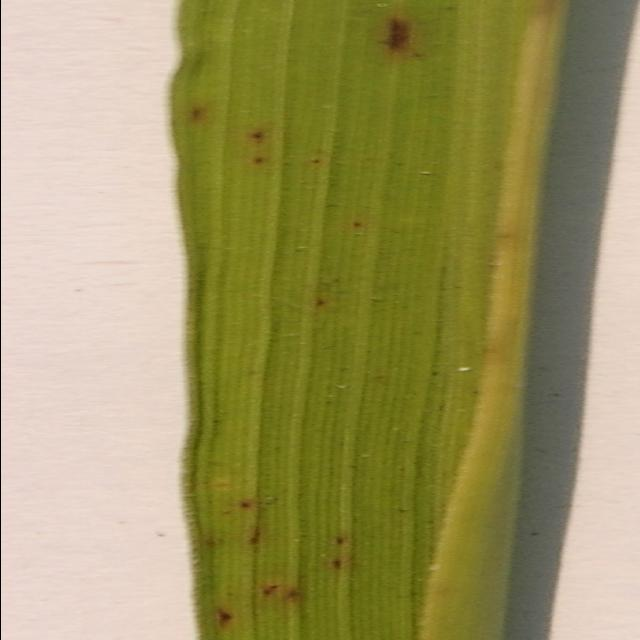Unhealthy: (414, 0, 567, 630), (372, 17, 420, 57), (213, 608, 235, 628), (247, 130, 270, 143), (278, 589, 299, 603), (246, 528, 262, 544), (309, 295, 328, 308), (258, 586, 279, 595), (190, 109, 205, 120), (235, 501, 251, 510), (330, 557, 341, 569), (248, 157, 265, 164), (347, 222, 366, 228), (333, 537, 345, 545), (308, 159, 322, 165)
